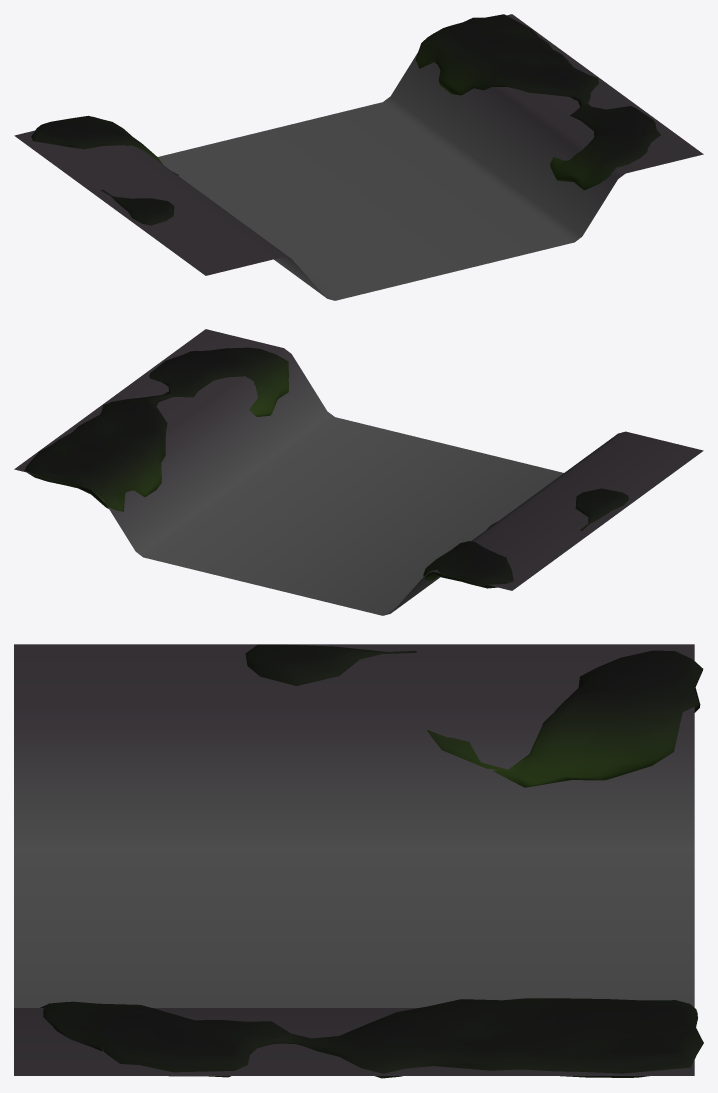
Rendered from SM_Sewer_Ground_05.fbx.
The picture shows the model from 3 angles, top to bottom: view 1: azimuth 30°, elevation 25°; view 2: azimuth 150°, elevation 25°; view 3: azimuth 270°, elevation 25°; orthographic projection. The views are drawn at different scales.
Visible parts, largest first — view 1: transform10; view 2: transform10; view 3: transform10.
Part boxes in pixels (x1,y1,x2,y2): transform10: (14, 14, 703, 300); transform10: (14, 329, 703, 615); transform10: (14, 644, 703, 1078).
Bounding box in the file's own units: 600 × 74.42 × 406.
